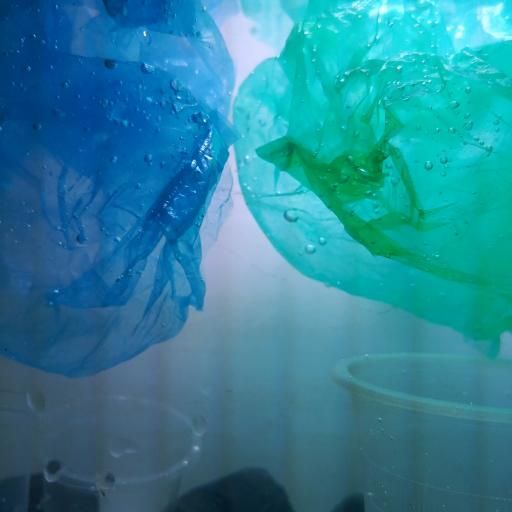plastic_bag: (233, 2, 512, 342), (0, 0, 236, 379)
plastic_cup: (329, 350, 512, 512), (32, 392, 204, 511), (0, 388, 38, 512)
